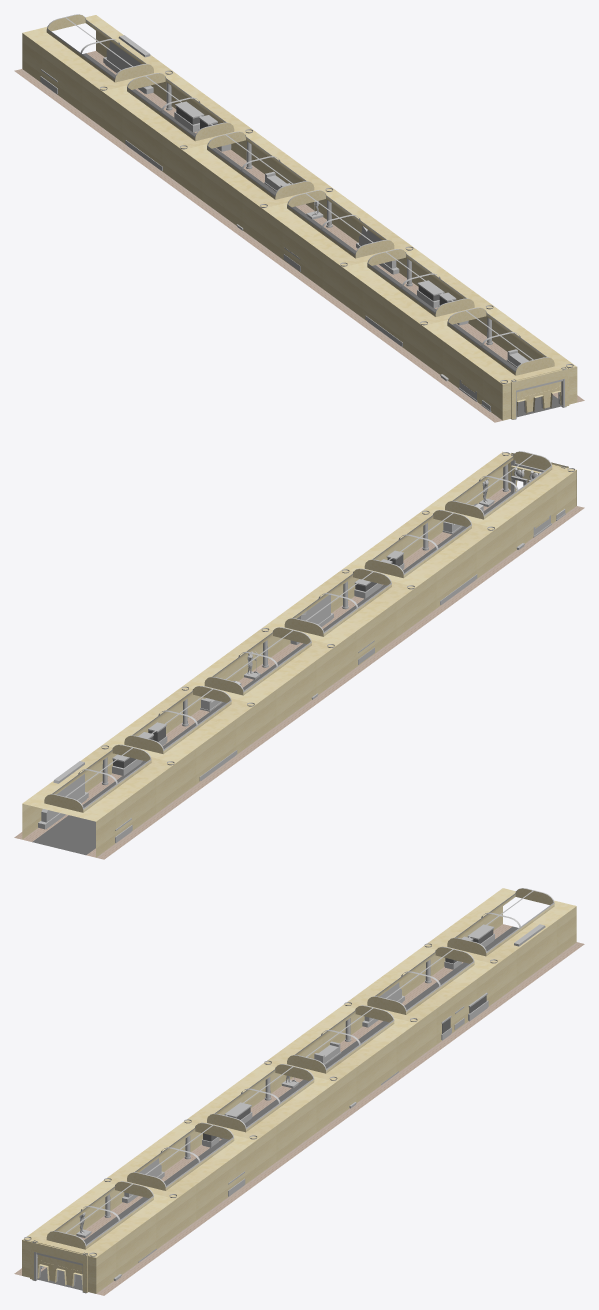
The model's file is Chunk04.fbx.
3 renders of one model, top to bottom at view 1: azimuth 30°, elevation 25°; view 2: azimuth 150°, elevation 25°; view 3: azimuth 330°, elevation 25°, orthographic.
Parts seen in each view (by area): view 1: Chunk04_Mesh; view 2: Chunk04_Mesh; view 3: Chunk04_Mesh.
Part boxes in pixels (x1,y1,x2,y2): Chunk04_Mesh: [14, 14, 584, 422]; Chunk04_Mesh: [14, 451, 584, 859]; Chunk04_Mesh: [14, 888, 584, 1295].
Size of the model in its own units: 6504 by 3376 by 60083.
